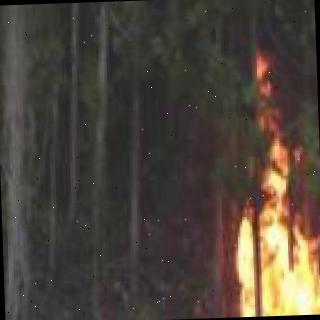fire: (175, 210, 320, 319)
